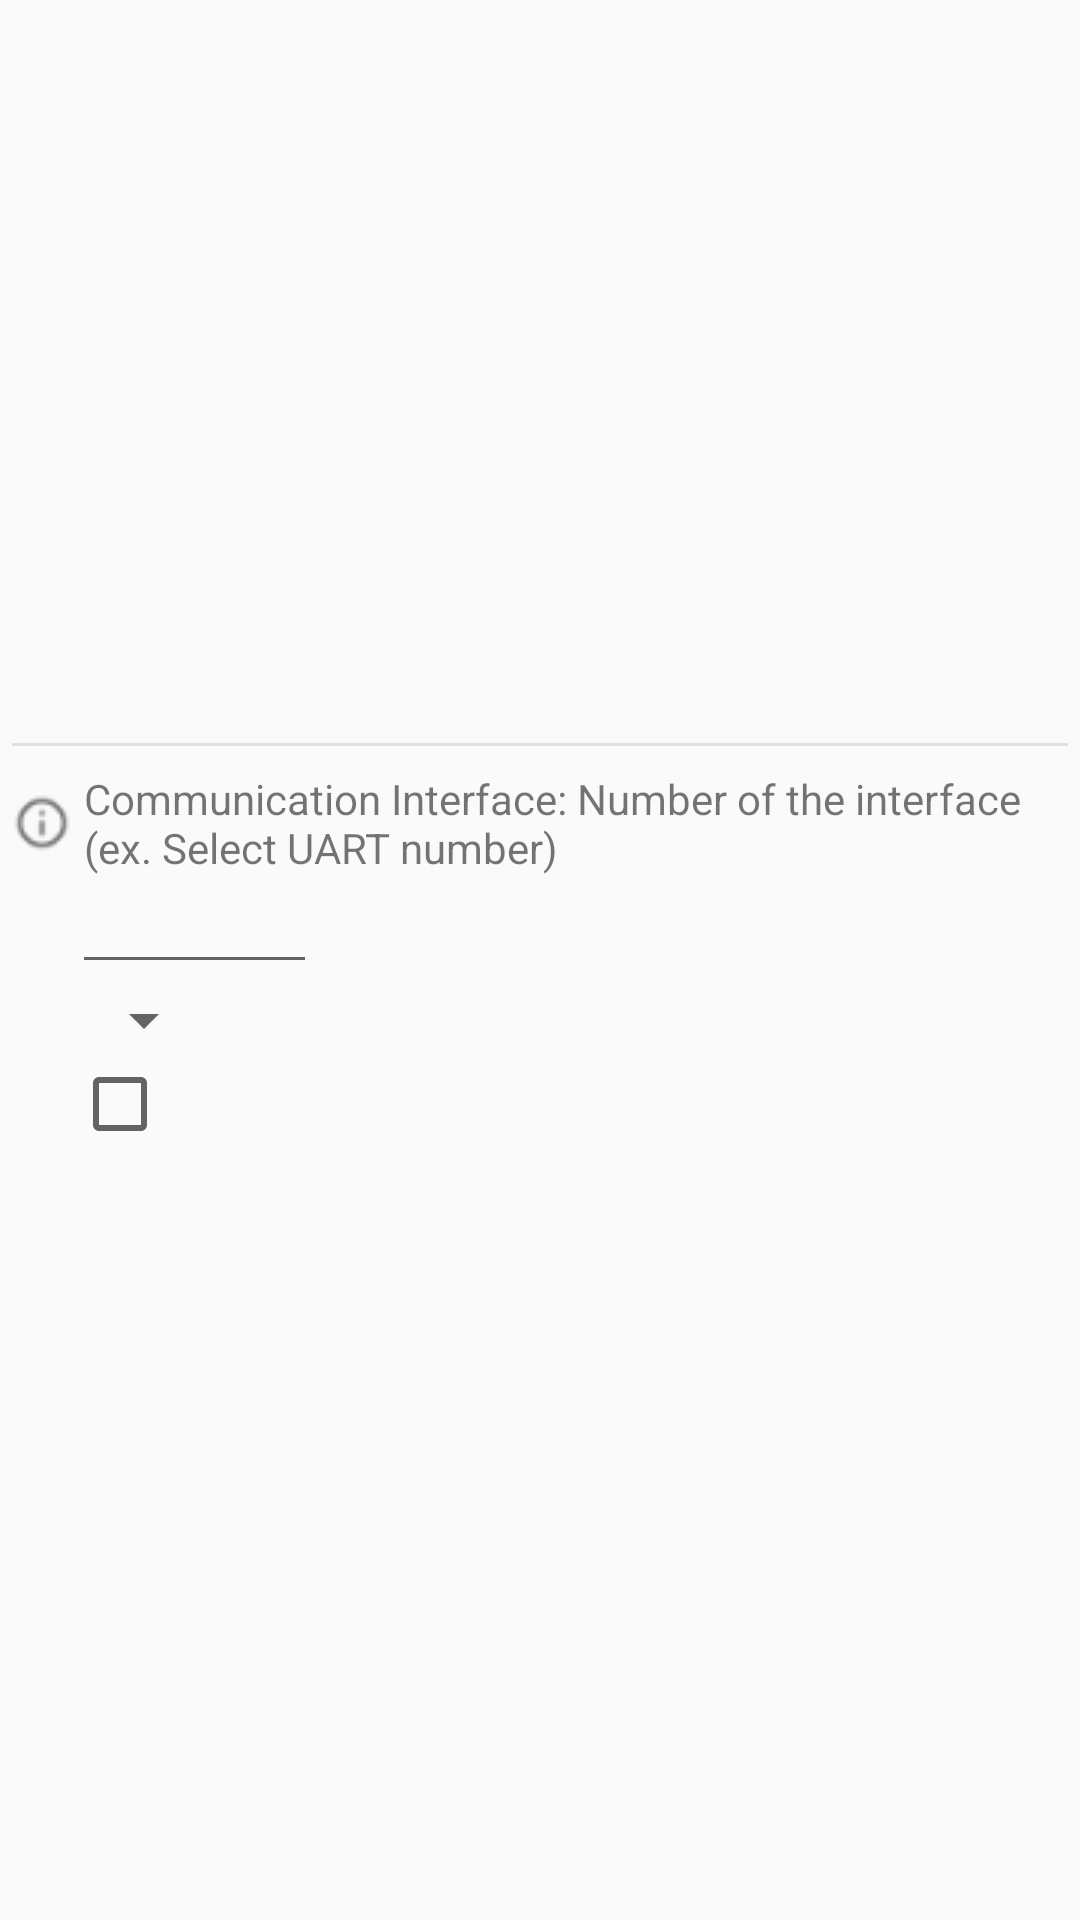

Icon bounding boxes for this 1080px x 1920px phone screenshot, format [x1, y1, x2, y2]:
info: [16, 797, 68, 849]
